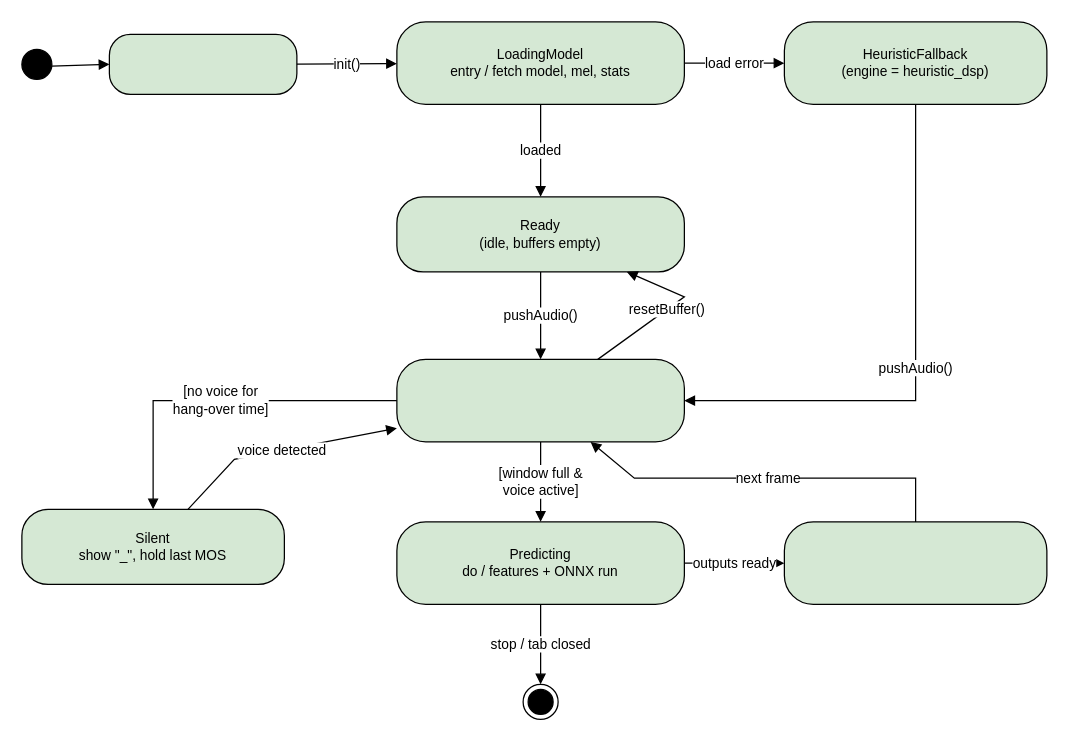
This 1069x741 diagram has some shape labels left out. Each missing label, with the centre of its shape:
"Buffering do / resample & fill ring buffer" belongs at (540,400).
"ResultUpdated entry / smooth MOS" belongs at (915,562).
"Uninitialised" belongs at (202,63).
